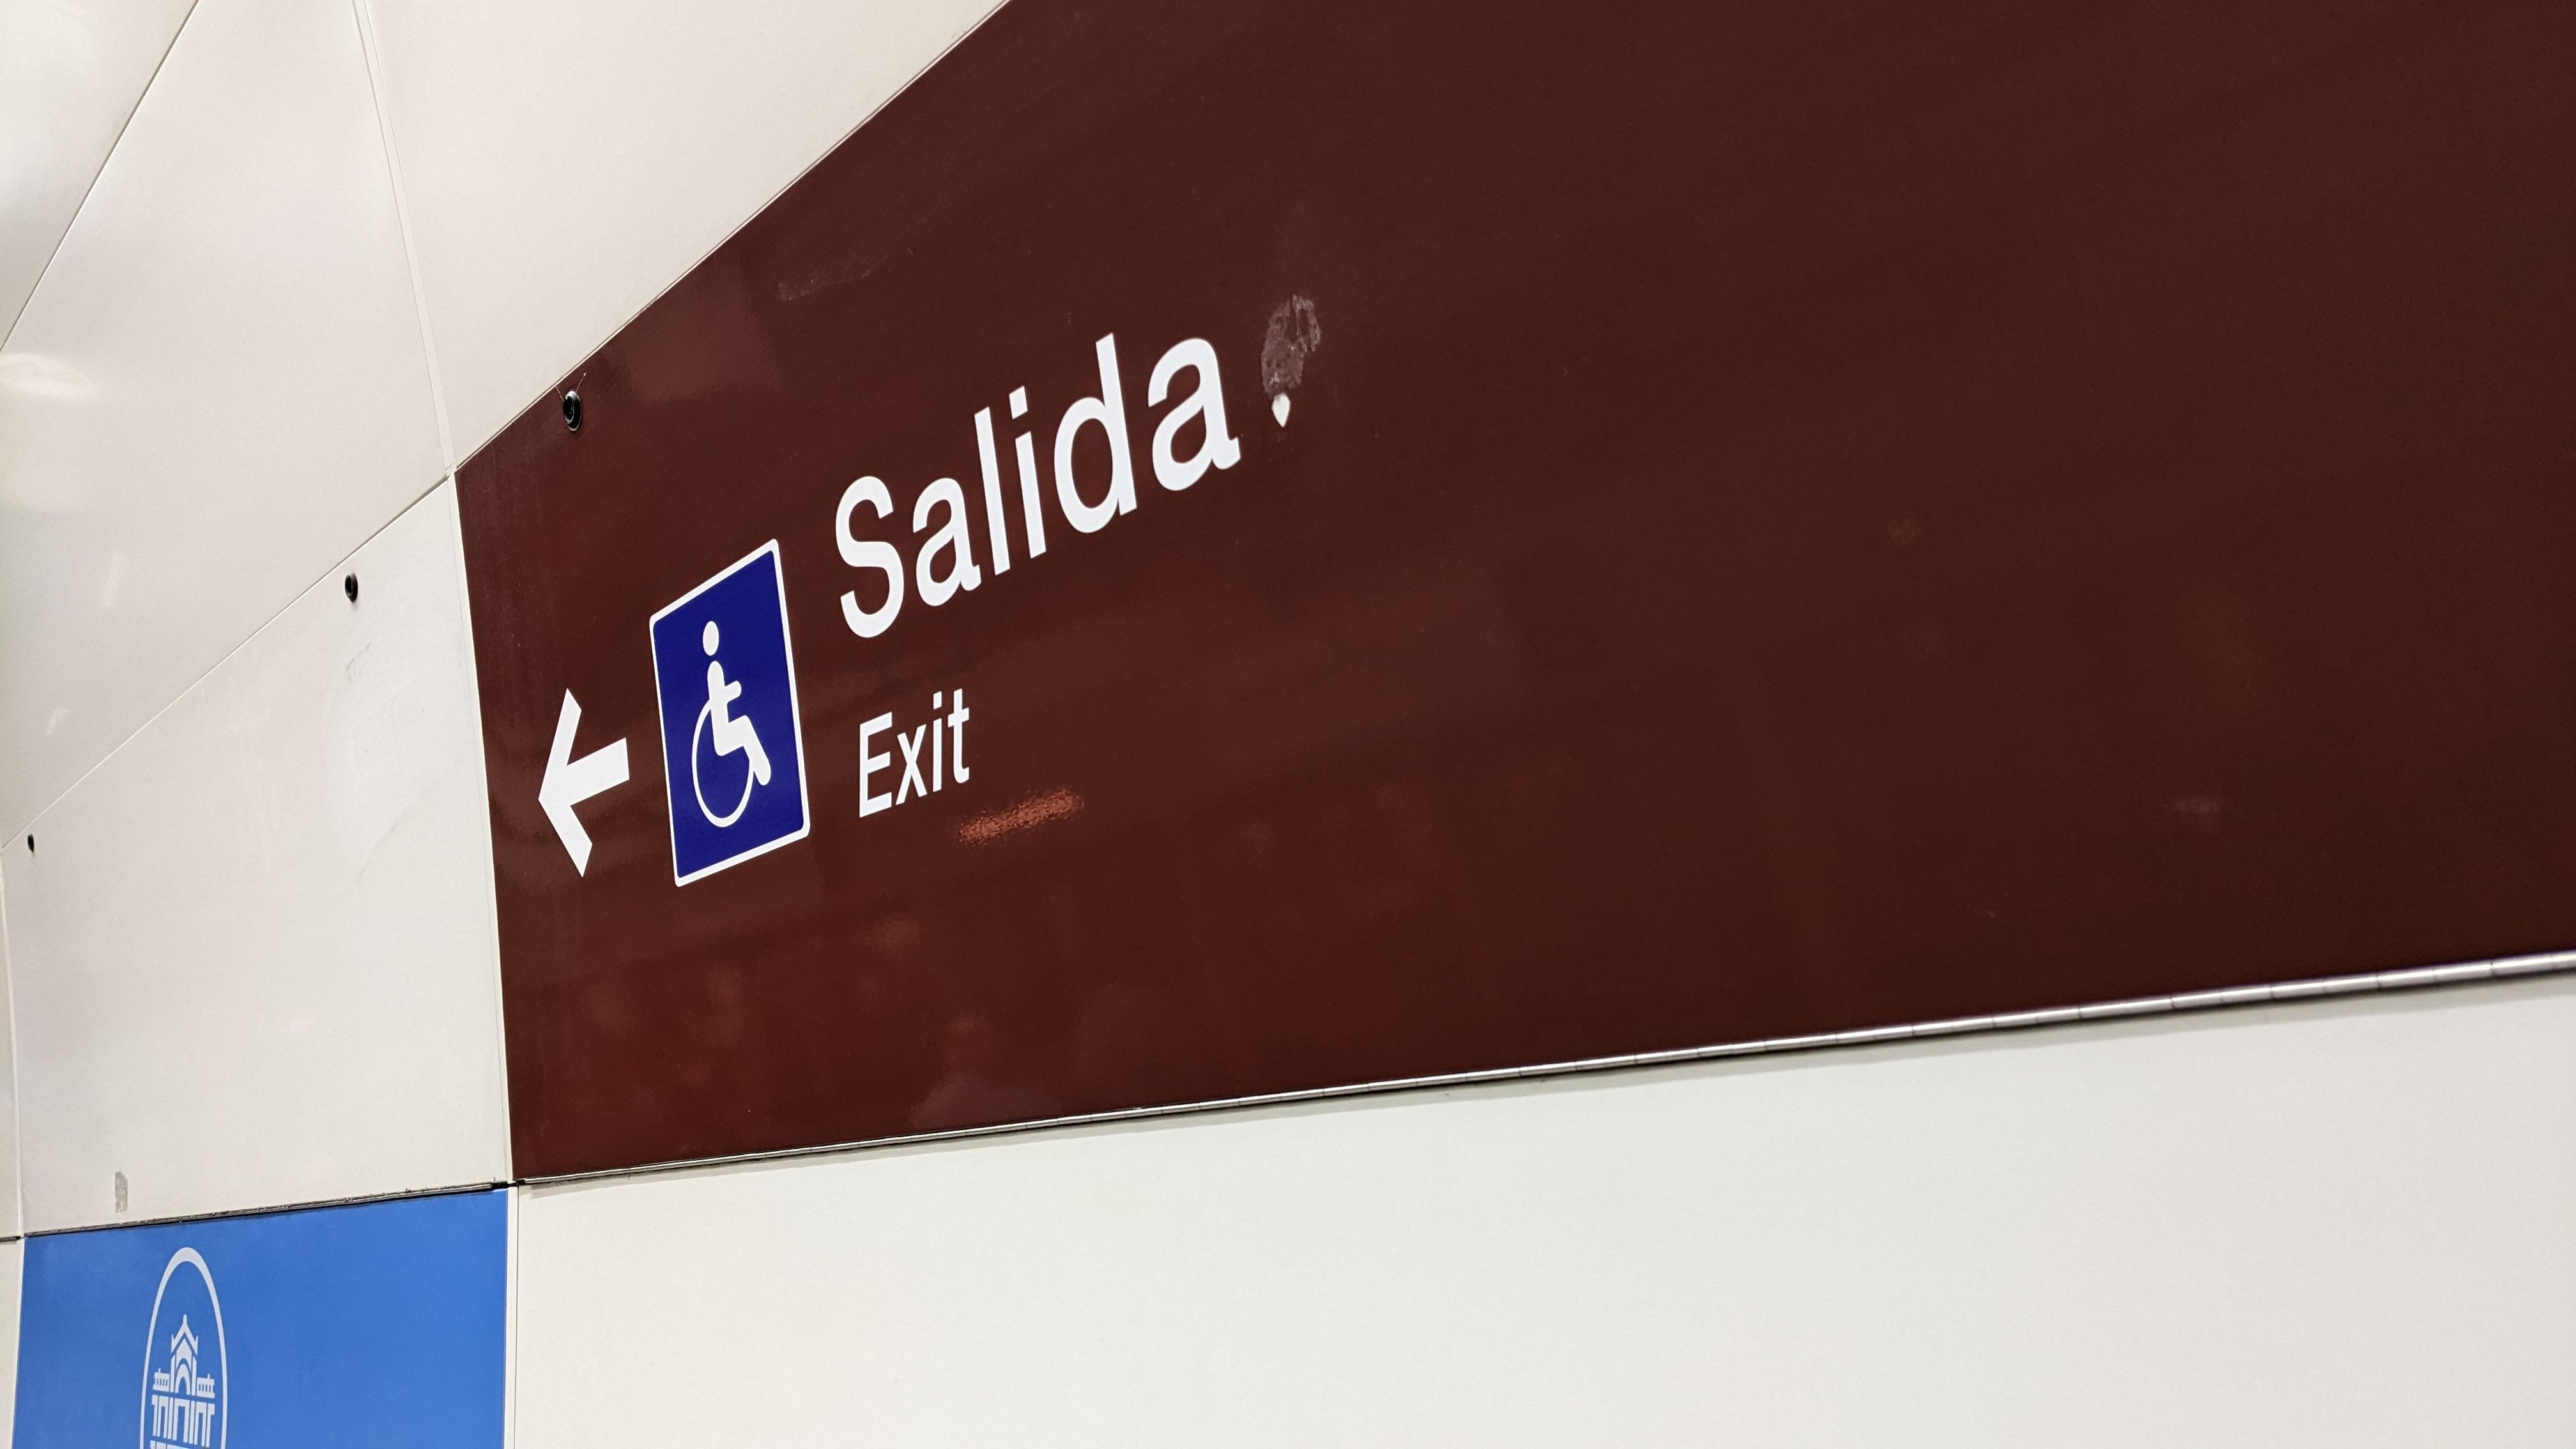handicapped symbol: (685, 614, 775, 832)
left arrow: (533, 683, 637, 883)
